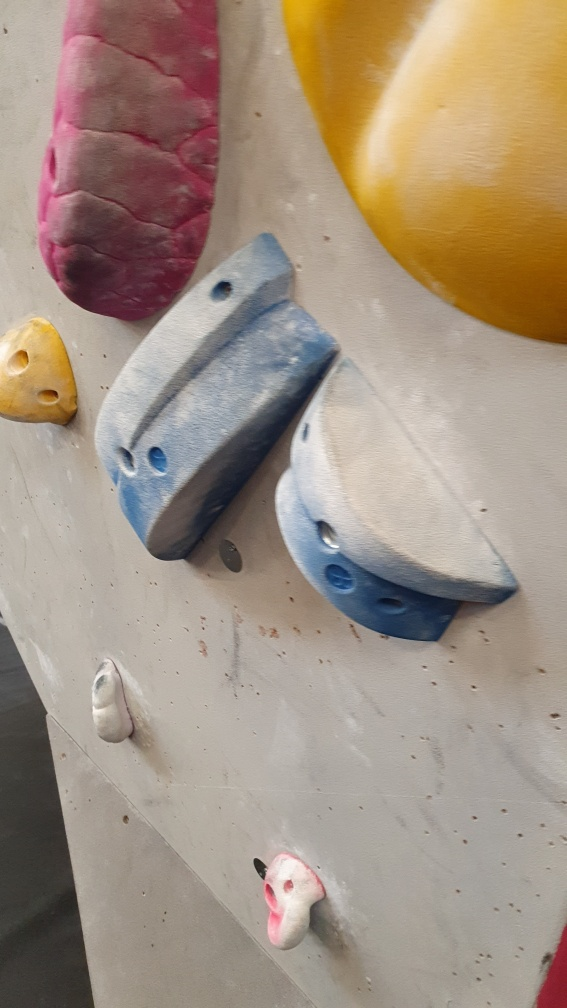Hand Start: (217, 534, 246, 581)
Pinch: (86, 224, 344, 560), (273, 353, 522, 641)
